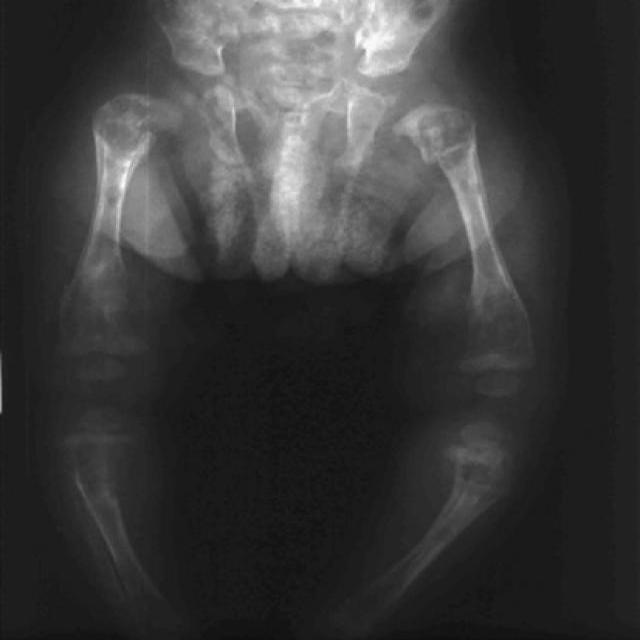pathological: (98, 39, 485, 187)
